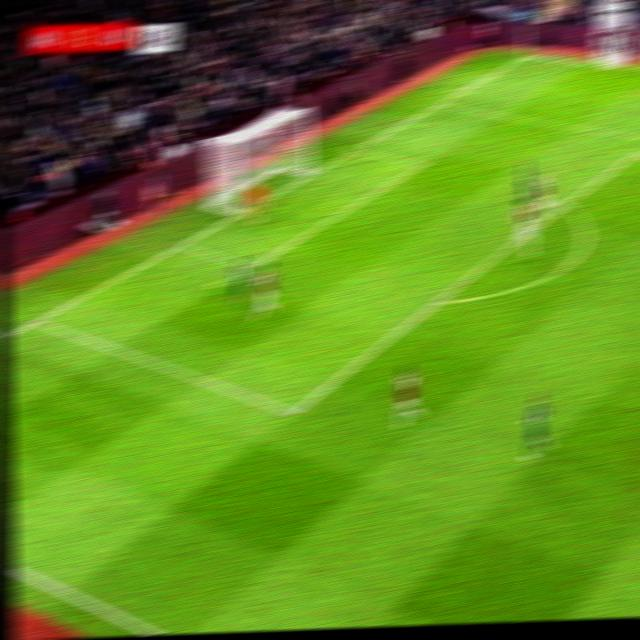bigarea_bottom_inner: (279, 399, 306, 425)
bigarea_bottom_outter: (23, 310, 49, 331)
bigarea_top_outter: (427, 95, 449, 113)
bottom_arc_area_intersection: (425, 288, 452, 312)
corner: (512, 47, 539, 61)
smallarea_bottom_inner: (239, 253, 266, 278)
smallarea_bottom_outter: (168, 234, 193, 253)
smallarea_top_inner: (408, 155, 431, 172)
smallarea_top_outter: (344, 139, 366, 158)
top_arc_area_intersection: (553, 192, 577, 213)
